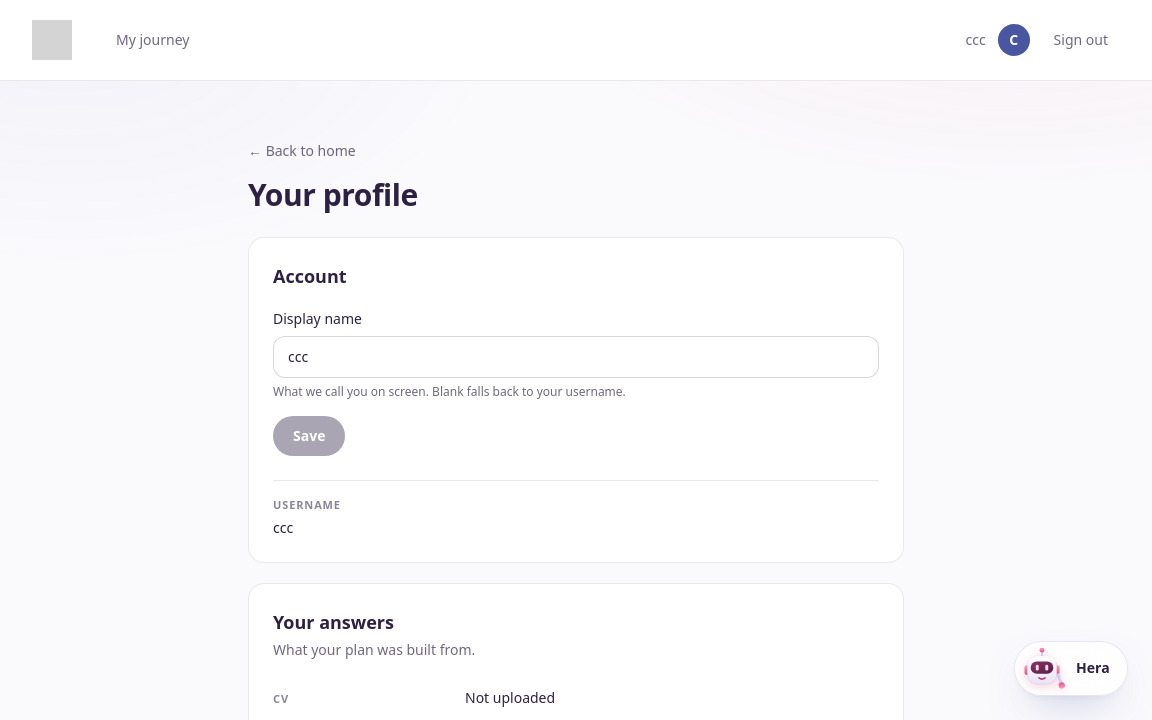
it: profile › renames the account and shows the new name in the header
This screenshot has width=1152, height=720.
Type "Choong Chee Yeong" into the field labelled "Display name".
click(576, 357); type("Choong Chee Yeong")  # box [273,336,879,378]
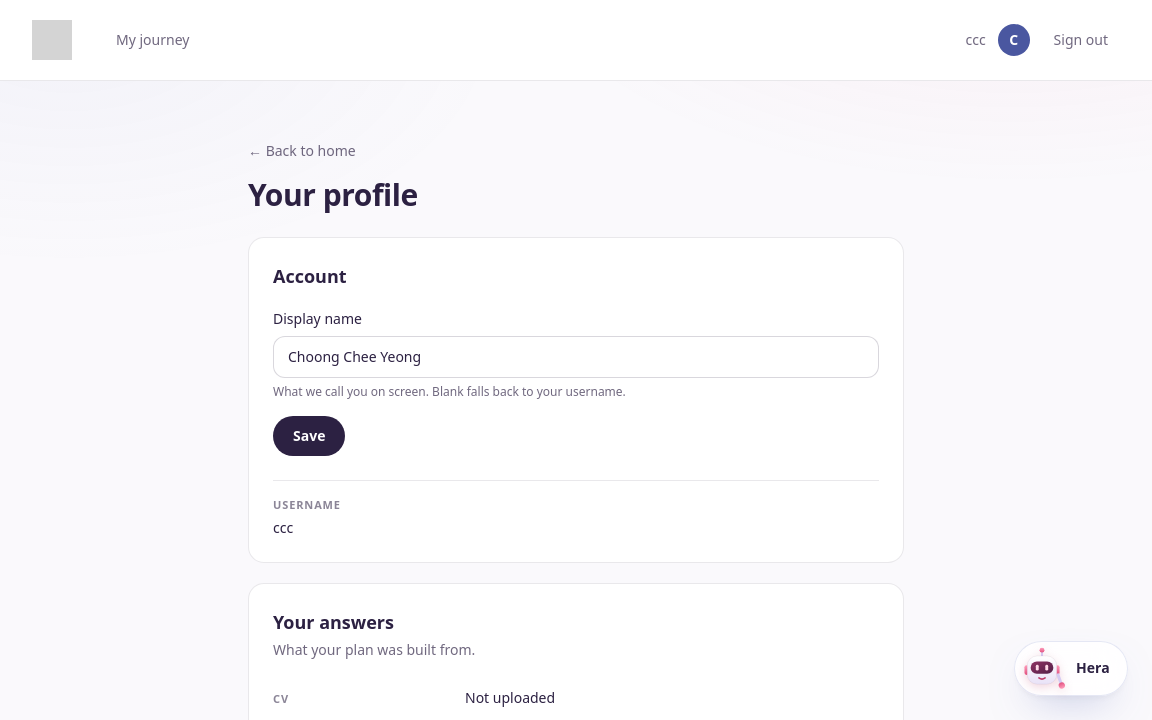
Click the button "Save".
click(309, 436)  # box [273,416,345,456]
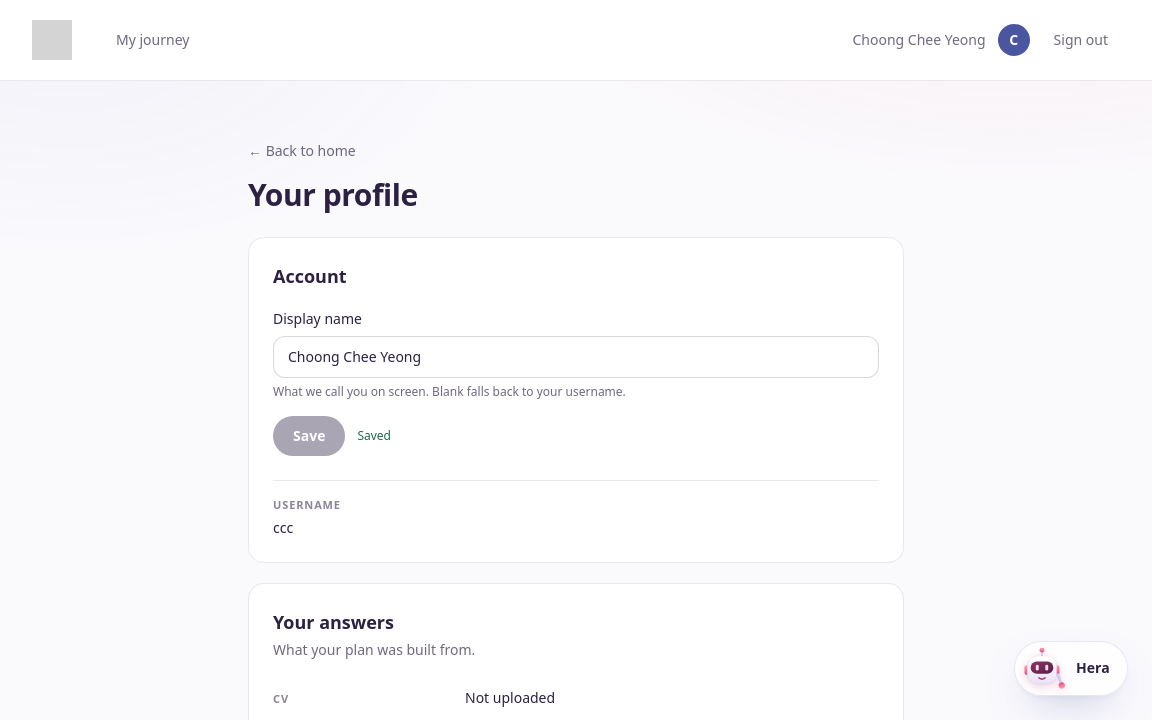
Result: the text "Choong Chee Yeong" is shown at [852,30,986,50]
Result: the link "Choong Chee Yeong C" is shown at [852,24,1030,56]
